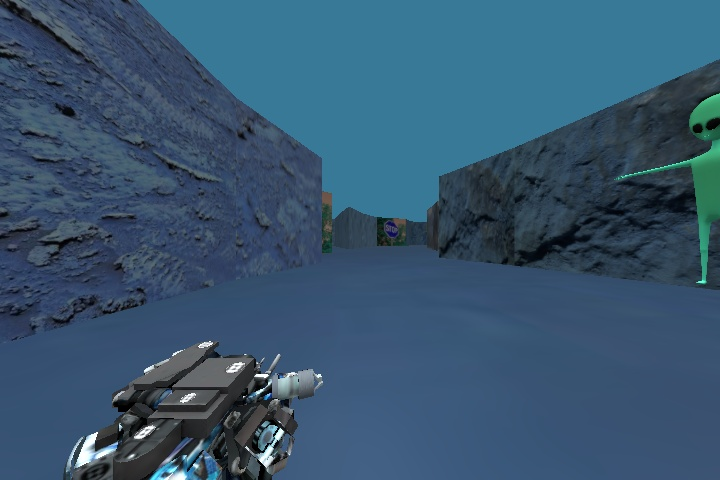green_alien: (616, 84, 720, 291)
